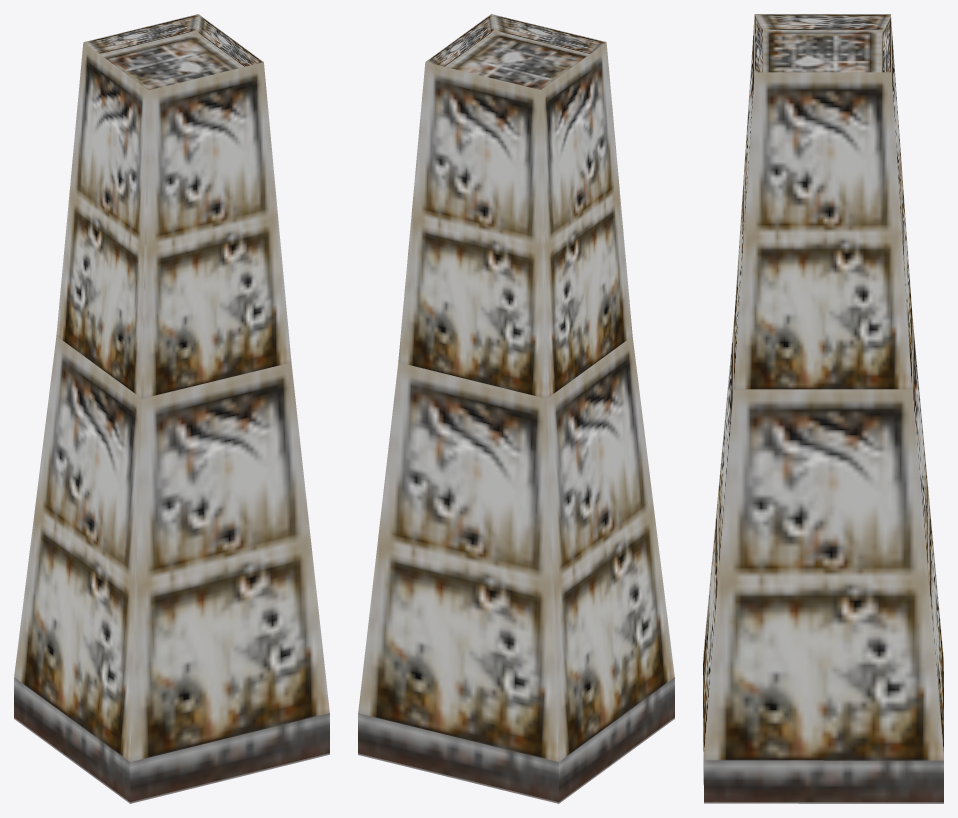
The model's file is d_heavypost_dam.glb.
The picture shows the model from 3 angles, left to right: view 1: azimuth 30°, elevation 25°; view 2: azimuth 150°, elevation 25°; view 3: azimuth 270°, elevation 25°; orthographic projection. The views are drawn at different scales.
Visible parts, largest first — view 1: D_HeavyPostDam; view 2: D_HeavyPostDam; view 3: D_HeavyPostDam.
Boxes of the visible parts, x1,y1,x2,y2 form: D_HeavyPostDam: (14,14,329,803); D_HeavyPostDam: (358,14,674,803); D_HeavyPostDam: (703,14,943,803).
Size of the model in its own units: 5.49 by 17.91 by 5.51.
Materials: 1 (1 with a texture image).
